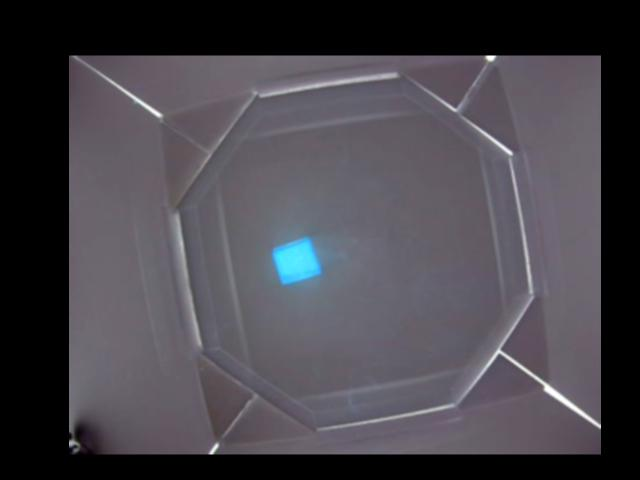Carrot: (273, 238, 320, 284)
